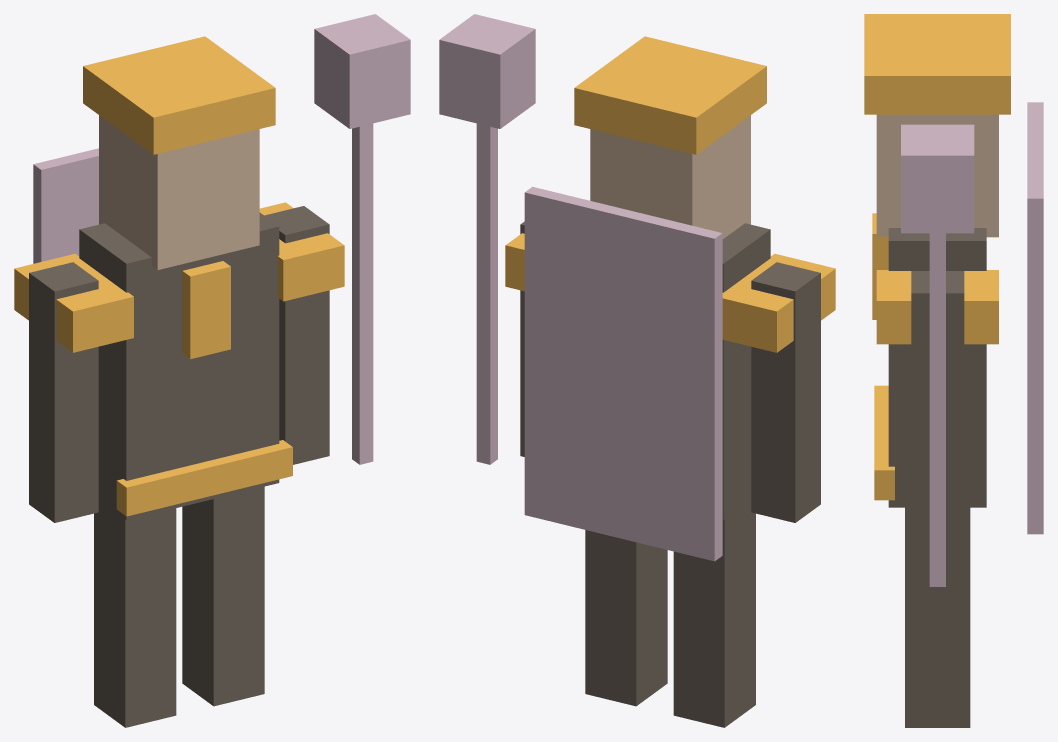
Rendered from 13_selka_trenchmark_captain_under_observation.glb.
The picture shows the model from 3 angles, left to right: view 1: azimuth 30°, elevation 25°; view 2: azimuth 150°, elevation 25°; view 3: azimuth 270°, elevation 25°; orthographic projection. The views are drawn at different scales.
Visible parts, largest first — view 1: Selka Trenchmark, Captain under Observation; view 2: Selka Trenchmark, Captain under Observation; view 3: Selka Trenchmark, Captain under Observation.
Boxes of the visible parts, <box> form: Selka Trenchmark, Captain under Observation: <box>14,14,410,727</box>; Selka Trenchmark, Captain under Observation: <box>439,14,835,727</box>; Selka Trenchmark, Captain under Observation: <box>864,14,1043,727</box>.
Bounding box in the file's own units: 0.9671 × 1.64 × 0.4111.
